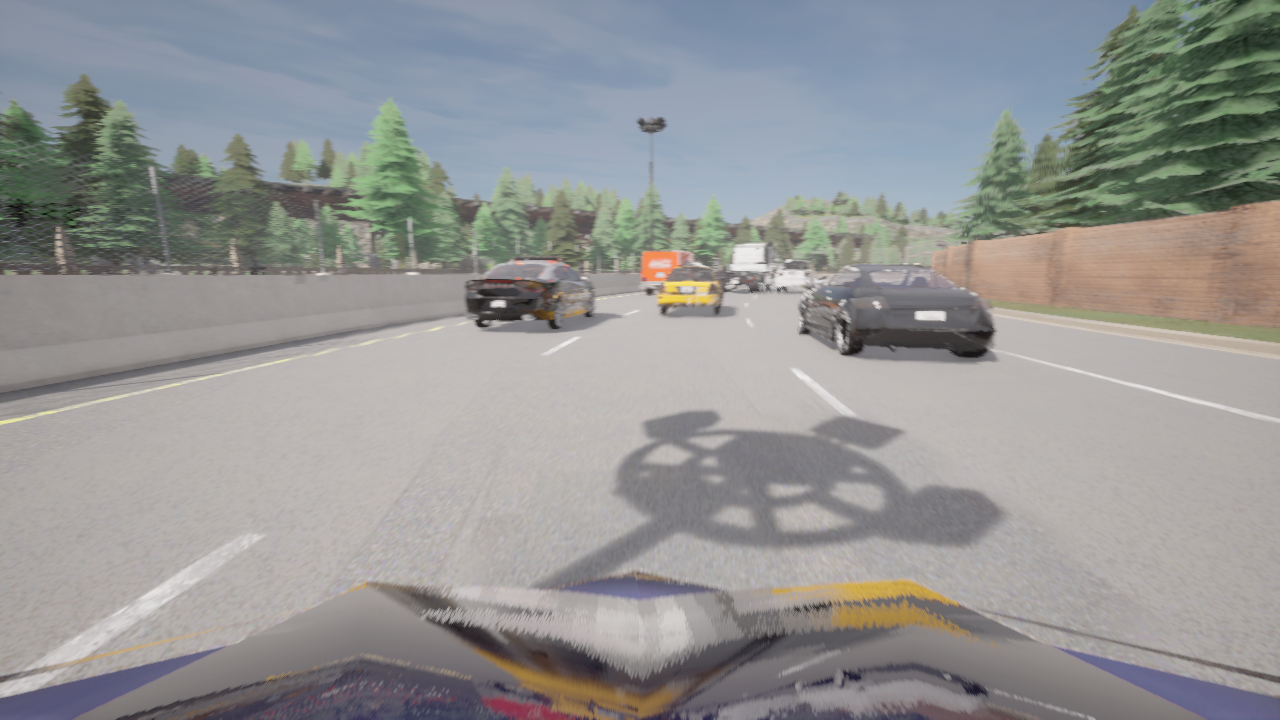cyclist: (0, 569, 1279, 719), (798, 264, 996, 357), (465, 256, 595, 329), (658, 262, 725, 314), (717, 241, 778, 292), (640, 251, 693, 293), (776, 260, 818, 292)
